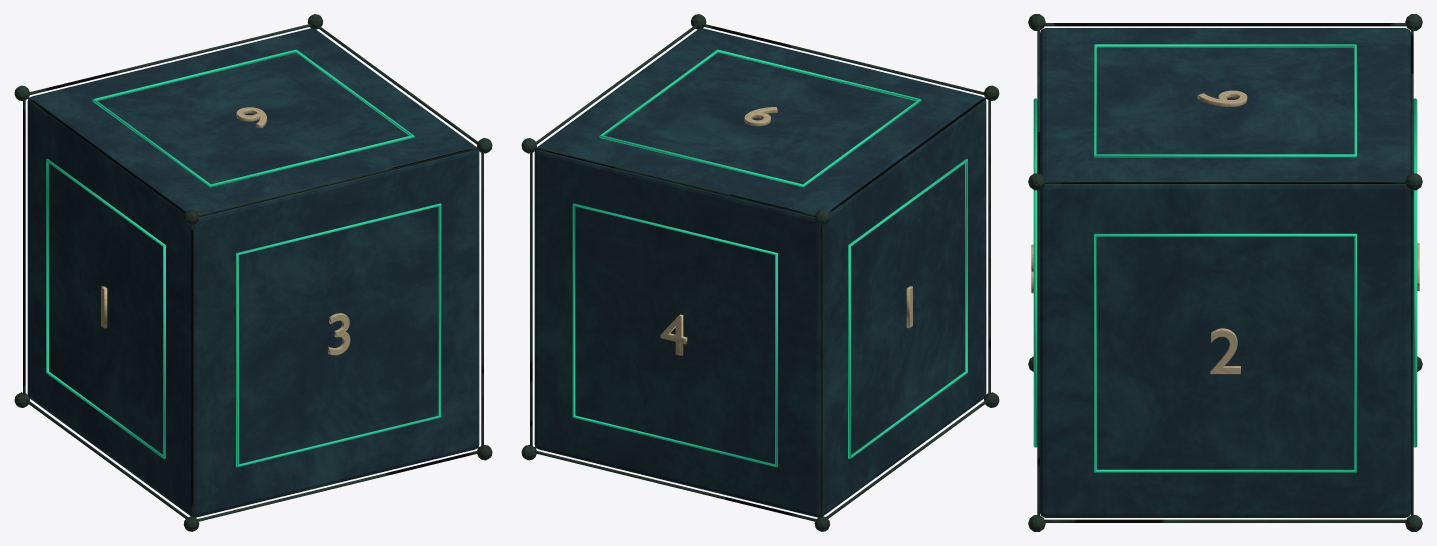
Rendered from D6_六面骰_baked.glb.
3 renders of one model, left to right at view 1: azimuth 30°, elevation 25°; view 2: azimuth 150°, elevation 25°; view 3: azimuth 270°, elevation 25°, orthographic. The views are drawn at different scales.
Visible parts, largest first — view 1: D6_Body_6_Faces, D6_Occult_Face_Borders, D6_Aged_Bronze_Edges, D6_Vertex_Studs, D6_Face_03_3; view 2: D6_Body_6_Faces, D6_Occult_Face_Borders, D6_Aged_Bronze_Edges, D6_Vertex_Studs, D6_Face_04_4; view 3: D6_Body_6_Faces, D6_Occult_Face_Borders, D6_Aged_Bronze_Edges, D6_Vertex_Studs, D6_Face_02_2, D6_Face_06_6.
Boxes of the visible parts, box(x1,y1,x2,y2) form: D6_Body_6_Faces: box(27, 28, 479, 517); D6_Occult_Face_Borders: box(46, 49, 441, 467); D6_Aged_Bronze_Edges: box(23, 24, 483, 521); D6_Vertex_Studs: box(14, 14, 492, 531); D6_Face_03_3: box(328, 313, 350, 355); D6_Body_6_Faces: box(534, 28, 986, 517); D6_Occult_Face_Borders: box(572, 49, 967, 467); D6_Aged_Bronze_Edges: box(530, 24, 990, 521); D6_Vertex_Studs: box(521, 14, 999, 531); D6_Face_04_4: box(660, 314, 687, 355); D6_Body_6_Faces: box(1040, 28, 1410, 517); D6_Occult_Face_Borders: box(1033, 44, 1417, 472); D6_Aged_Bronze_Edges: box(1037, 23, 1413, 522); D6_Vertex_Studs: box(1028, 14, 1422, 531); D6_Face_02_2: box(1210, 328, 1240, 374); D6_Face_06_6: box(1197, 90, 1247, 106).
Size of the model in its own units: 2.45 by 2.45 by 2.45.
Materials: 10 (9 with a texture image).
